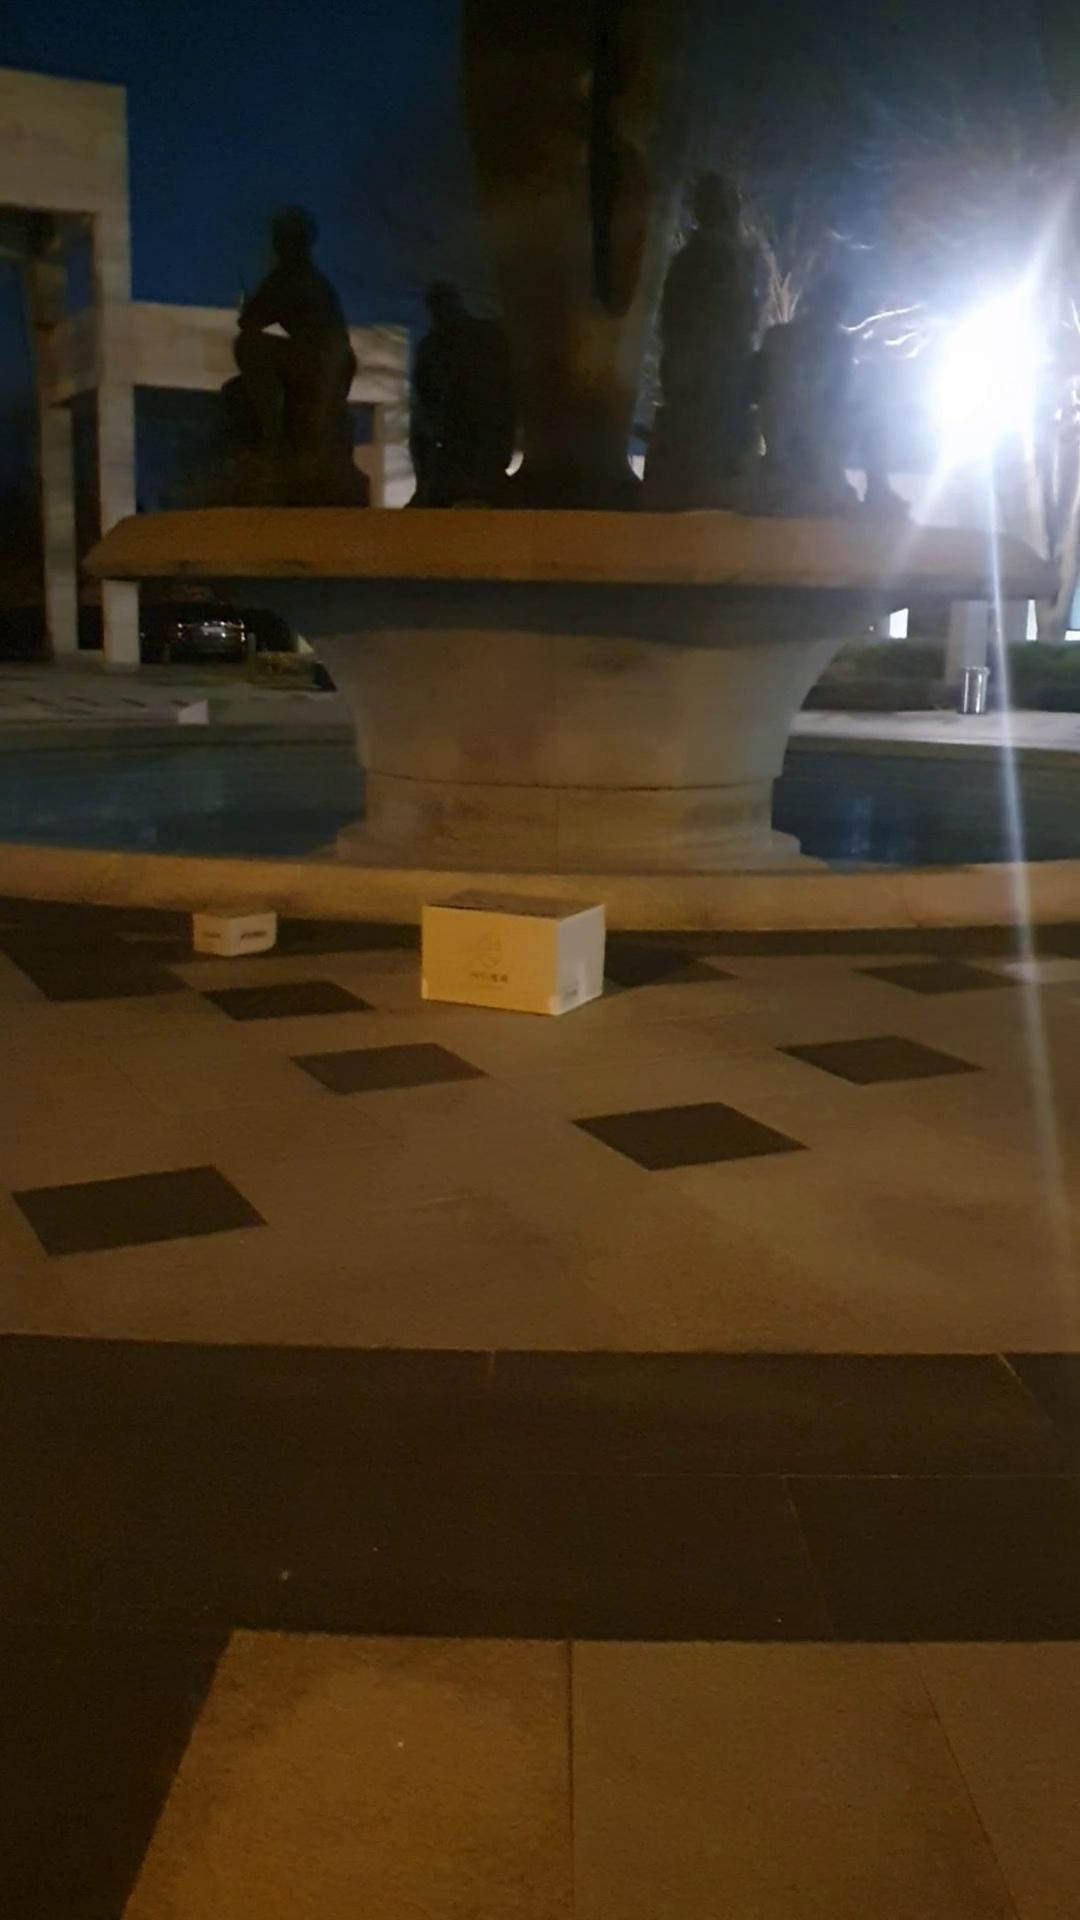Box: (413, 880, 607, 1021), (181, 893, 293, 963)
